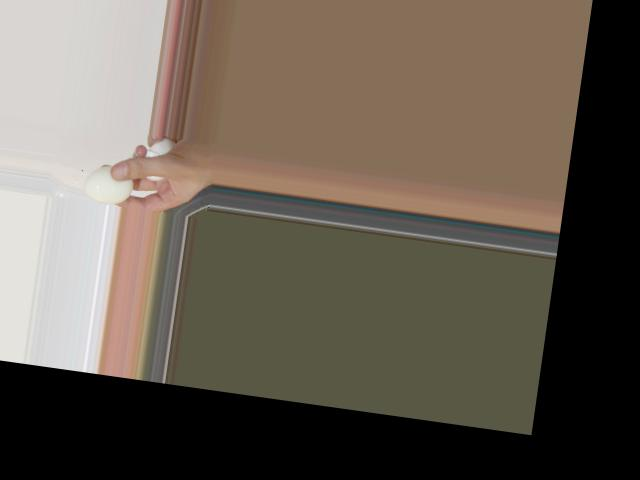egg: (82, 161, 135, 207)
